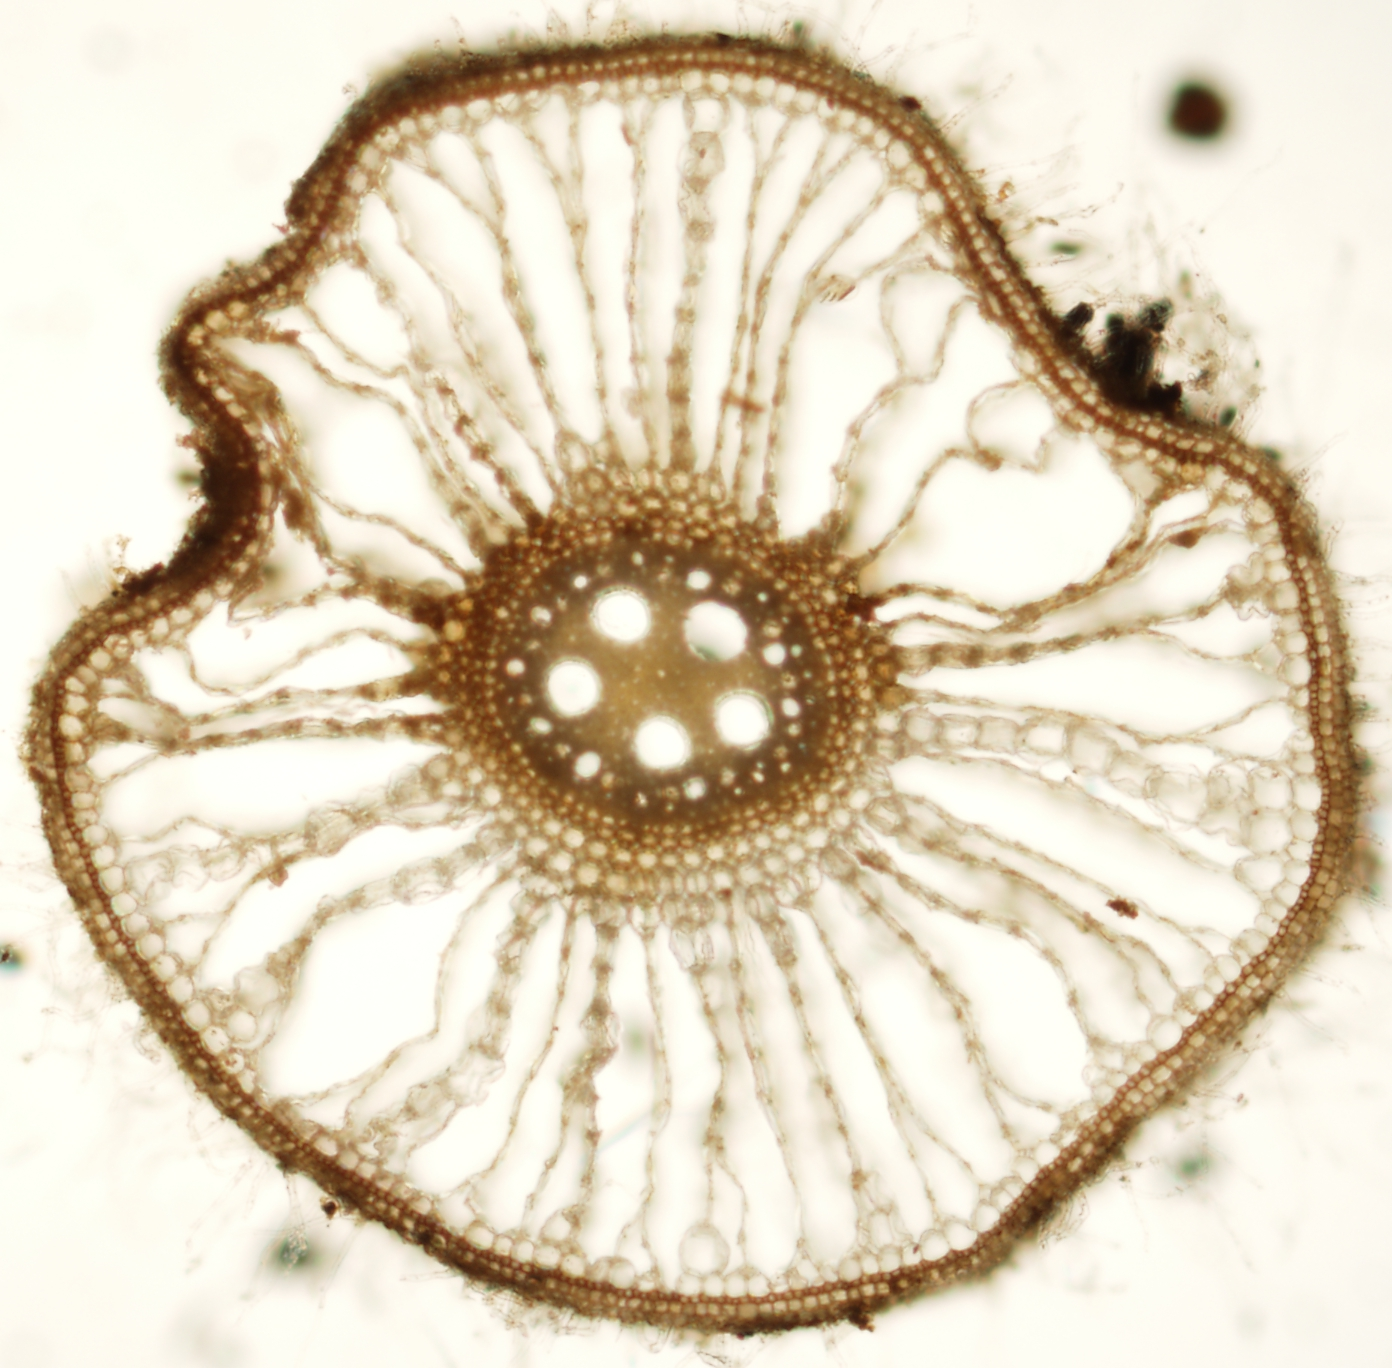lm: (684, 601, 748, 661), (713, 690, 774, 749), (543, 655, 599, 717), (633, 715, 693, 770), (593, 589, 652, 641)
